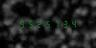five: (26, 20, 34, 28), (44, 20, 52, 28)
four: (71, 20, 79, 28)
nine: (17, 20, 25, 28)
seven: (53, 20, 61, 28)
three: (62, 20, 70, 28)
two: (35, 20, 43, 28)
